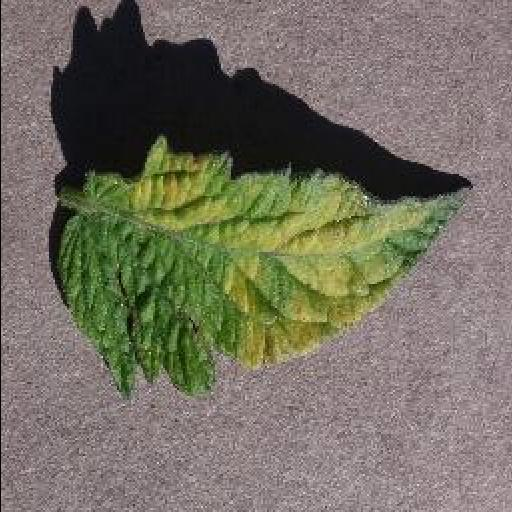disease_tomato: (54, 136, 474, 402)
